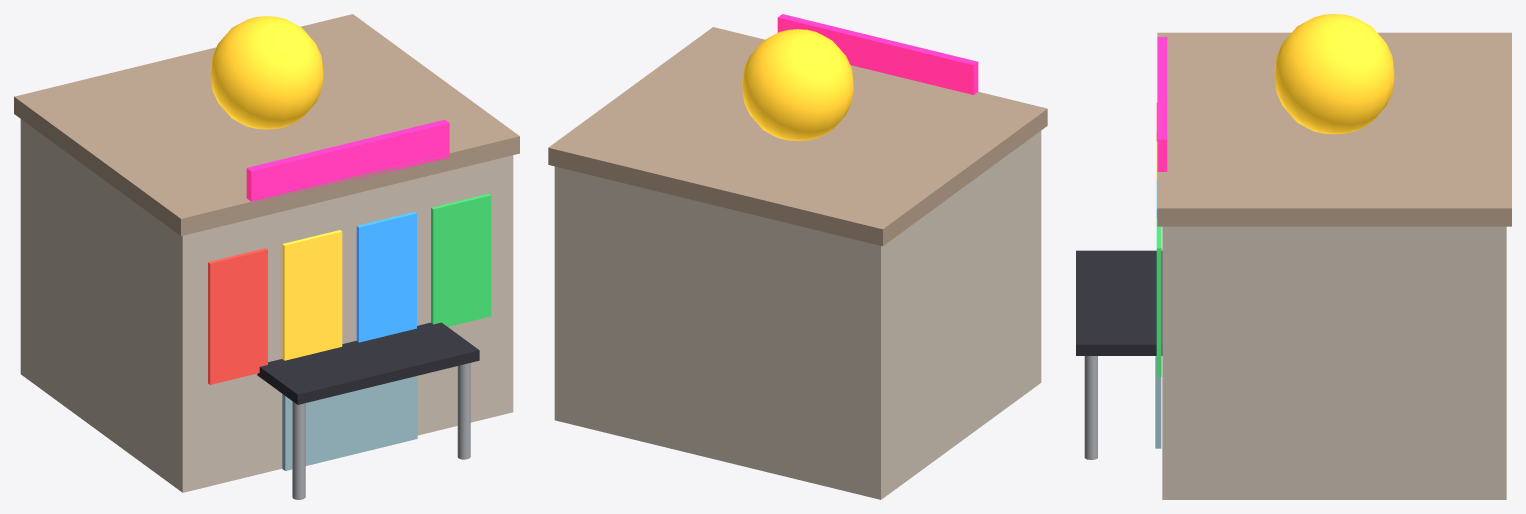
Rendered from biz_mall.glb.
3 renders of one model, left to right at view 1: azimuth 30°, elevation 25°; view 2: azimuth 150°, elevation 25°; view 3: azimuth 270°, elevation 25°, orthographic. The views are drawn at different scales.
Bounding box in the file's own units: 4.1 × 4.3 × 4.3.
